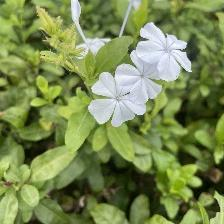chitrak: (133, 21, 191, 80), (87, 69, 147, 124)
